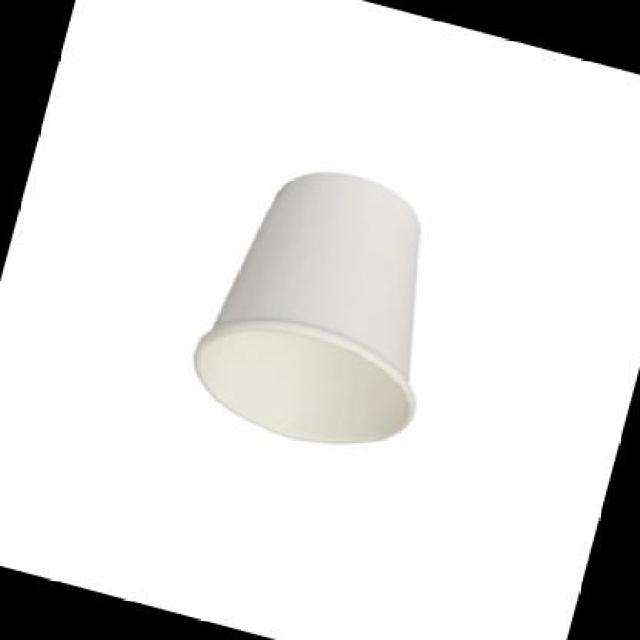non-biodegradable: (150, 112, 479, 470)
